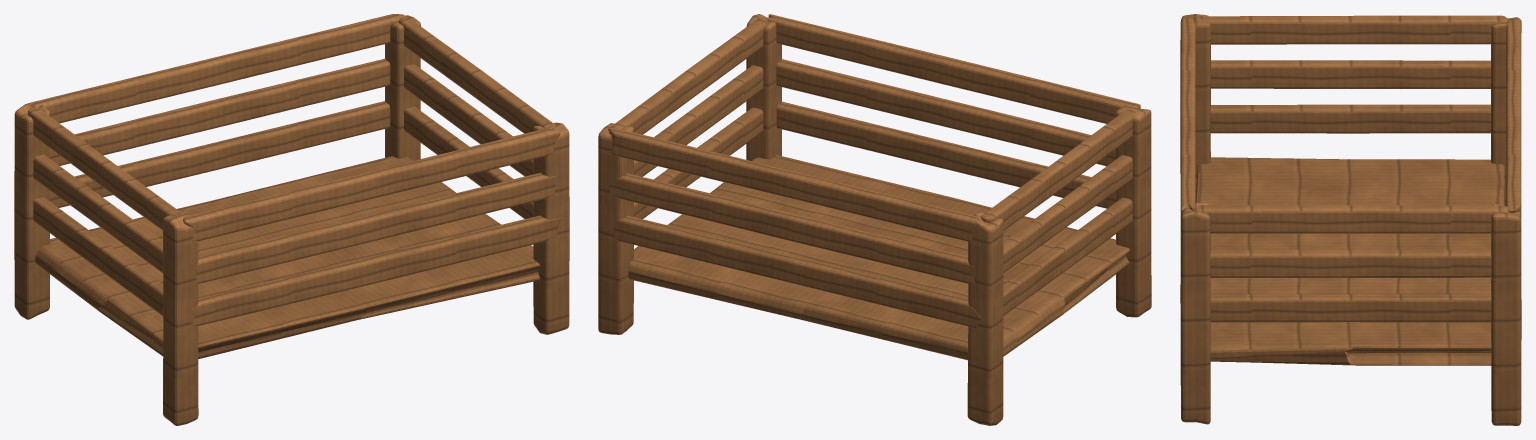
The model's file is cart_frame2.glb.
3 views of the same model, side by side, from view 1: azimuth 30°, elevation 25°; view 2: azimuth 150°, elevation 25°; view 3: azimuth 270°, elevation 25° (orthographic). The views are drawn at different scales.
Visible parts, largest first — view 1: cart_frame2; view 2: cart_frame2; view 3: cart_frame2.
Part boxes in pixels (x1,y1,x2,y2): cart_frame2: [14, 14, 569, 425]; cart_frame2: [598, 14, 1151, 425]; cart_frame2: [1180, 14, 1521, 425].
Size of the model in its own units: 1.92 by 0.96 by 1.37.
2 materials, 2 textured.
